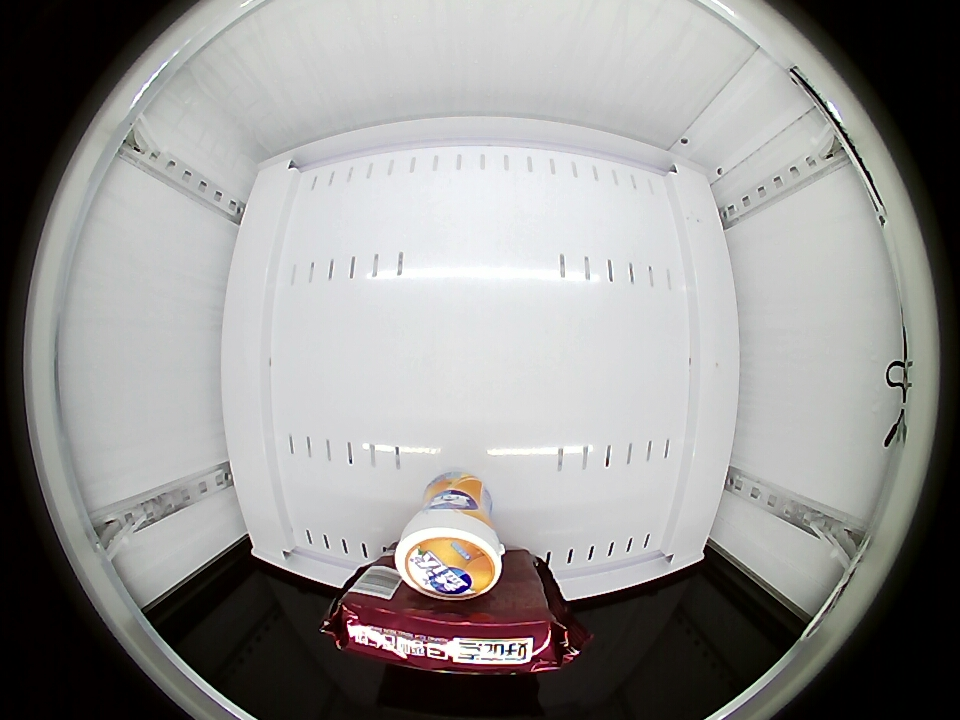haochidian: (322, 590, 574, 673)
